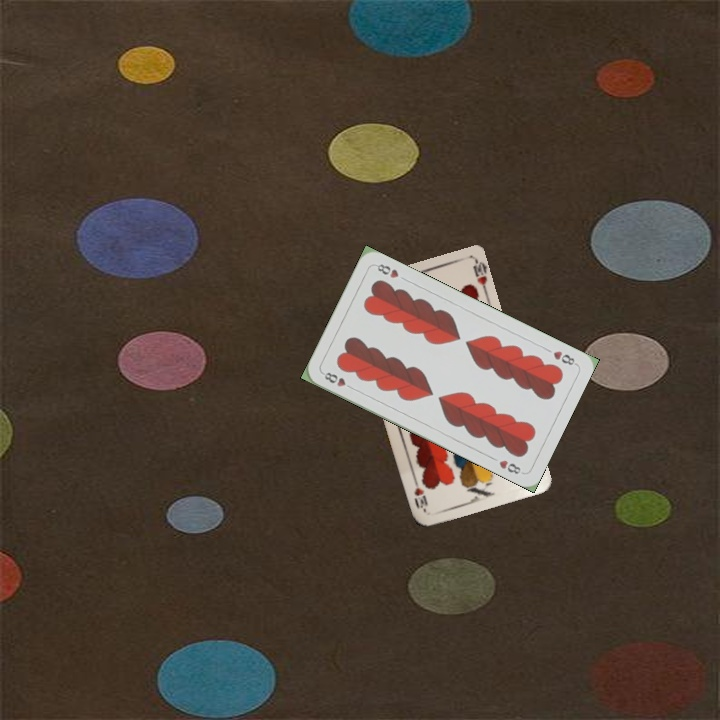H8: (319, 368, 357, 392), (549, 347, 579, 368)
